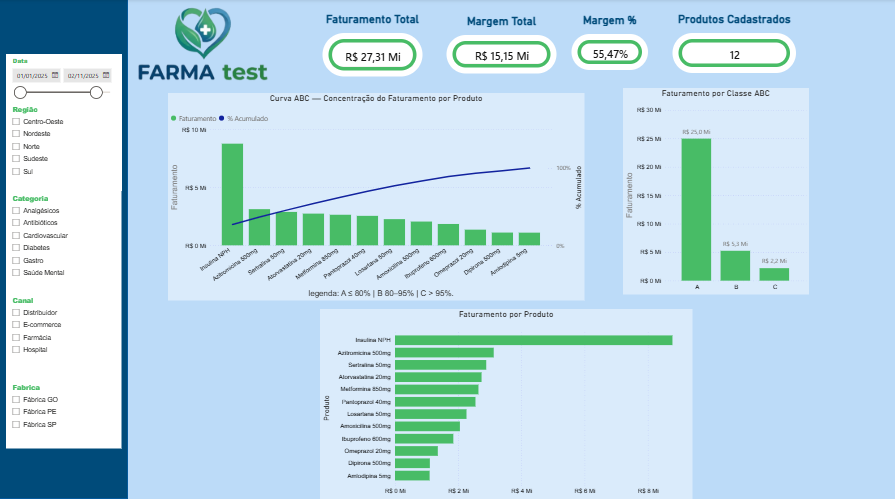

Layout of this report page (visuals, bound fields, positions):
{"tool":"powerbi","page":{"name":"Performance de Produtos","canvas":[1800,1000],"ordinal":1},"visuals":[{"type":"shape","box":[0,0,258,1000],"z":0},{"type":"cardVisual","title":"Faturamento Total","fields":{"Data":["ABC_Produtos.Faturamento Total"]},"box":[642.5,25,210,134],"z":1000},{"type":"cardVisual","title":"Margem Total","fields":{"Data":["ABC_Produtos.Margem Total"]},"box":[890,30,230,124],"z":2000},{"type":"cardVisual","title":"Margem %","fields":{"Data":["ABC_Produtos.Margem %"]},"box":[1140,27.5,163,119],"z":3000},{"type":"cardVisual","title":"Produtos Cadastrados","fields":{"Data":["ABC_Produtos.Total Produtos"]},"box":[1342.5,25,257.5,127.5],"z":4000},{"type":"slicer","fields":{"Values":["Farmaceutica.Data"]},"box":[14,110,231,95],"z":5000},{"type":"slicer","fields":{"Values":["Farmaceutica.Regiao"]},"box":[14,206,232,178],"z":6000},{"type":"slicer","fields":{"Values":["Farmaceutica.Fabrica"]},"box":[14,762,231,137],"z":7000},{"type":"slicer","fields":{"Values":["Farmaceutica.Canal"]},"box":[14,588,231,174],"z":8000},{"type":"slicer","fields":{"Values":["Farmaceutica.Categoria"]},"box":[14,384,231,204],"z":9000},{"type":"image","box":[257.5,0,292,169],"z":10000},{"type":"lineClusteredColumnComboChart","title":"Curva ABC — Concentração do Faturamento por Produto","fields":{"Category":["ProdutosABC.Produto"],"Y":["Sum(ProdutosABC.Faturamento)"],"Y2":["Sum(ProdutosABC.% Acumulado)"]},"box":[337.5,187.5,833.3,415],"z":11000},{"type":"clusteredBarChart","fields":{"Category":["ProdutosABC.Produto"],"Y":["Sum(ProdutosABC.Faturamento)"]},"box":[642.5,620,745,380],"z":12000},{"type":"clusteredColumnChart","fields":{"Category":["ProdutosABC.Classe ABC"],"Y":["Sum(ProdutosABC.Faturamento)"]},"box":[1247.5,177.5,371.7,413.3],"z":13000}]}

Visuals, with their boxes in screenshot pixels (x1, y1, x2, y2), scaled from the page's 1800x1000 canvas onto the 895x499 screenshot:
shape: <region>0, 0, 128, 498</region>
"Faturamento Total" cardVisual: <region>319, 12, 424, 79</region>
"Margem Total" cardVisual: <region>443, 15, 557, 77</region>
"Margem %" cardVisual: <region>567, 14, 648, 73</region>
"Produtos Cadastrados" cardVisual: <region>668, 12, 796, 76</region>
slicer - Farmaceutica.Data: <region>7, 55, 122, 102</region>
slicer - Farmaceutica.Regiao: <region>7, 103, 122, 192</region>
slicer - Farmaceutica.Fabrica: <region>7, 380, 122, 449</region>
slicer - Farmaceutica.Canal: <region>7, 293, 122, 380</region>
slicer - Farmaceutica.Categoria: <region>7, 192, 122, 293</region>
image: <region>128, 0, 273, 84</region>
"Curva ABC — Concentração do Faturamento por Produto" lineClusteredColumnComboChart: <region>168, 94, 582, 301</region>
clusteredBarChart - ProdutosABC.Produto x Sum(ProdutosABC.Faturamento): <region>319, 309, 690, 498</region>
clusteredColumnChart - ProdutosABC.Classe ABC x Sum(ProdutosABC.Faturamento): <region>620, 89, 805, 295</region>
